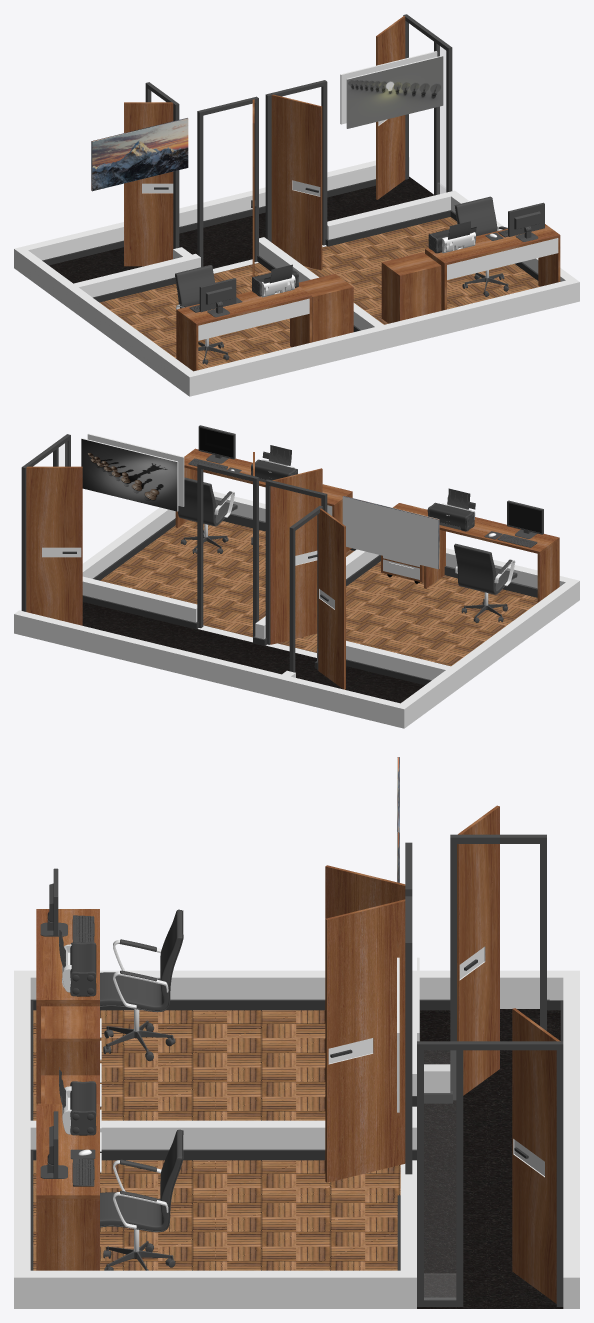
Rendered from world_trade.glb.
3 views of the same model, one above another, from view 1: azimuth 30°, elevation 25°; view 2: azimuth 150°, elevation 25°; view 3: azimuth 270°, elevation 25° (orthographic). The views are drawn at different scales.
Visible parts, largest first — view 1: Box007, Plane002, Plane004, Plane006, Box323514, Wall 022, Box323526, Box323527, Wall 019, Wall 021, Box323518, Wall 004 (+34 smaller); view 2: Plane006, Plane002, Box323518, Plane004, Box323510, Wall 018_PVA White_0, Box323525, Box323527, Box323514, Wall 021, Wall 007_PVA White_0, Line005 (+32 smaller); view 3: Plane002, Plane006, Plane004, Box007, Wall 020, Box323518, Box323514, Box002, Wall 009, Line009, Wall 021, Line001 (+27 smaller).
Boxes of the visible parts, box(x1,y1,x2,y2) form: Box007: box(271, 94, 322, 270); Plane002: box(304, 217, 539, 324); Plane004: box(49, 176, 433, 283); Plane006: box(99, 263, 291, 369); Box323514: box(124, 102, 173, 266); Wall 022: box(184, 325, 389, 396); Box323526: box(346, 55, 443, 128); Box323527: box(91, 118, 188, 191); Wall 019: box(384, 278, 579, 347); Wall 021: box(69, 287, 192, 392); Box323518: box(376, 16, 405, 199); Wall 004: box(327, 190, 459, 239); Plane006: box(278, 561, 537, 666); Plane002: box(100, 520, 353, 637); Box323518: box(26, 466, 82, 625); Plane004: box(82, 602, 424, 703); Box323510: box(270, 468, 322, 644); Wall 018_PVA White_0: box(14, 614, 276, 697); Box323525: box(81, 438, 178, 511); Box323527: box(342, 496, 439, 569); Box323514: box(318, 508, 345, 689); Wall 021: box(451, 582, 574, 687); Wall 007_PVA White_0: box(285, 680, 409, 728); Line005: box(197, 463, 258, 636); Plane002: box(33, 1160, 400, 1270); Plane006: box(33, 1010, 325, 1120); Plane004: box(417, 1009, 563, 1308); Box007: box(325, 899, 405, 1182); Wall 020: box(30, 1270, 400, 1308); Box323518: box(512, 1008, 560, 1303); Box323514: box(457, 805, 499, 1095); Box002: box(424, 1051, 455, 1297); Wall 009: box(30, 1120, 325, 1149); Line009: box(30, 999, 452, 1270); Wall 021: box(30, 970, 325, 999); Line001: box(417, 1041, 563, 1275).
Size of what is drawn, in the model's own units: 207 by 82.68 by 161.
Materials: 19 (6 with a texture image).
